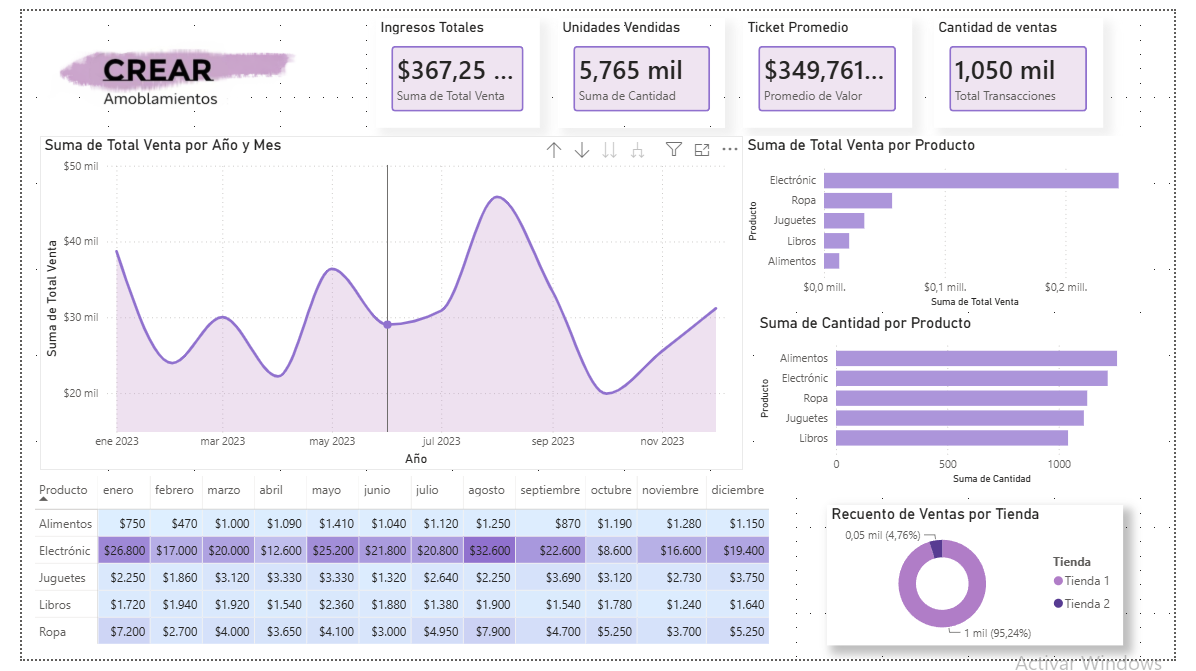

The page's visual inventory and layout, read from the dashboard file:
{"tool":"powerbi","page":{"name":"Página 1","canvas":[1280,720],"ordinal":0},"visuals":[{"type":"cardVisual","title":"Ingresos Totales","fields":{"Data":["Sum(Resumen_Tiendas.Total Venta)"]},"box":[393.8,7.7,181.5,121.5],"z":0},{"type":"cardVisual","title":"Unidades Vendidas","fields":{"Data":["Sum(Resumen_Tiendas.Cantidad)"]},"box":[595.4,7.7,186.2,121.5],"z":1000},{"type":"cardVisual","title":"Ticket Promedio","fields":{"Data":["Avg(Resumen_Tiendas.Total Venta)"]},"box":[801.5,7.7,187.7,121.5],"z":2000},{"type":"cardVisual","title":"Cantidad de ventas ","fields":{"Data":["Resumen_Tiendas.Total Transacciones"]},"box":[1013.8,7.7,187.7,121.5],"z":3000},{"type":"clusteredBarChart","fields":{"Category":["Resumen_Tiendas.Producto"],"Y":["Sum(Resumen_Tiendas.Cantidad)"]},"box":[813.9,336.7,454.4,193.7],"z":4000},{"type":"clusteredBarChart","fields":{"Category":["Resumen_Tiendas.Producto"],"Y":["Sum(Resumen_Tiendas.Total Venta)"]},"box":[801.3,139.2,454.4,194.9],"z":5000},{"type":"donutChart","title":"Recuento de Ventas por Tienda","fields":{"Y":["CountNonNull(Resumen_Tiendas.Tienda)"],"Category":["Resumen_Tiendas.Tienda"]},"box":[894.9,549.4,329.1,155.7],"z":6000},{"type":"pivotTable","fields":{"Rows":["Resumen_Tiendas.Producto"],"Values":["Sum(Resumen_Tiendas.Total Venta)"],"Columns":["Resumen_Tiendas.Fecha.Variación.Jerarquía de fechas.Mes"]},"box":[8.9,511.4,839.2,208.9],"z":7000},{"type":"lineChart","fields":{"Y":["Sum(Resumen_Tiendas.Total Venta)"],"Category":["Resumen_Tiendas.Fecha.Variación.Jerarquía de fechas.Año","Resumen_Tiendas.Fecha.Variación.Jerarquía de fechas.Mes"]},"box":[20.3,139.2,781,370.9],"z":8000},{"type":"image","box":[0,0,316.9,138.5],"z":9000}]}

Visuals, with their boxes on the page's 1280x720 design canvas (x1, y1, x2, y2). These are canvas units, not pixel positions in the 1196x671 screenshot, which may show the page scaled, cropped or inside an application window:
"Ingresos Totales" cardVisual: 394:8:575:129
"Unidades Vendidas" cardVisual: 595:8:782:129
"Ticket Promedio" cardVisual: 802:8:989:129
"Cantidad de ventas " cardVisual: 1014:8:1202:129
clusteredBarChart - Resumen_Tiendas.Producto x Sum(Resumen_Tiendas.Cantidad): 814:337:1268:530
clusteredBarChart - Resumen_Tiendas.Producto x Sum(Resumen_Tiendas.Total Venta): 801:139:1256:334
"Recuento de Ventas por Tienda" donutChart: 895:549:1224:705
pivotTable - Resumen_Tiendas.Producto x Sum(Resumen_Tiendas.Total Venta): 9:511:848:720
lineChart - Sum(Resumen_Tiendas.Total Venta) x Resumen_Tiendas.Fecha.Variación.Jerarquía de fechas.Año: 20:139:801:510
image: 0:0:317:138
